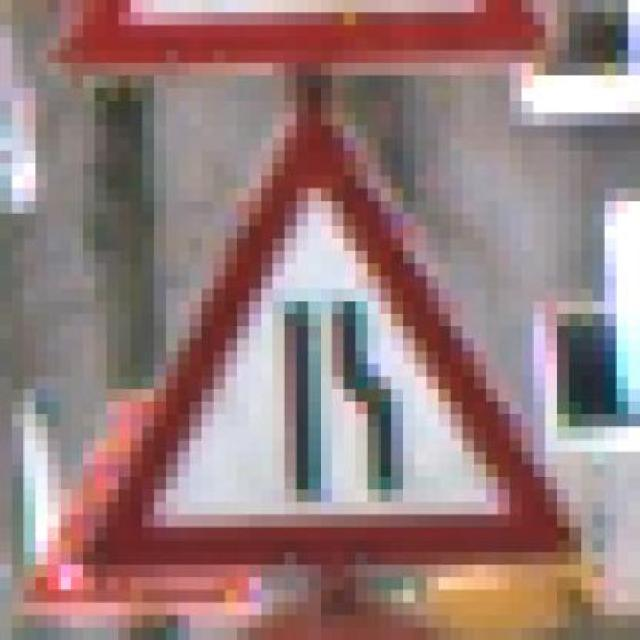-Road narrows on right: (71, 88, 592, 577)
